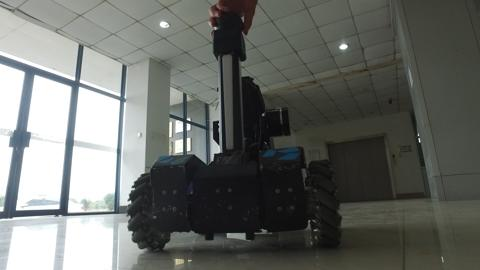chariot: (126, 24, 348, 258)
